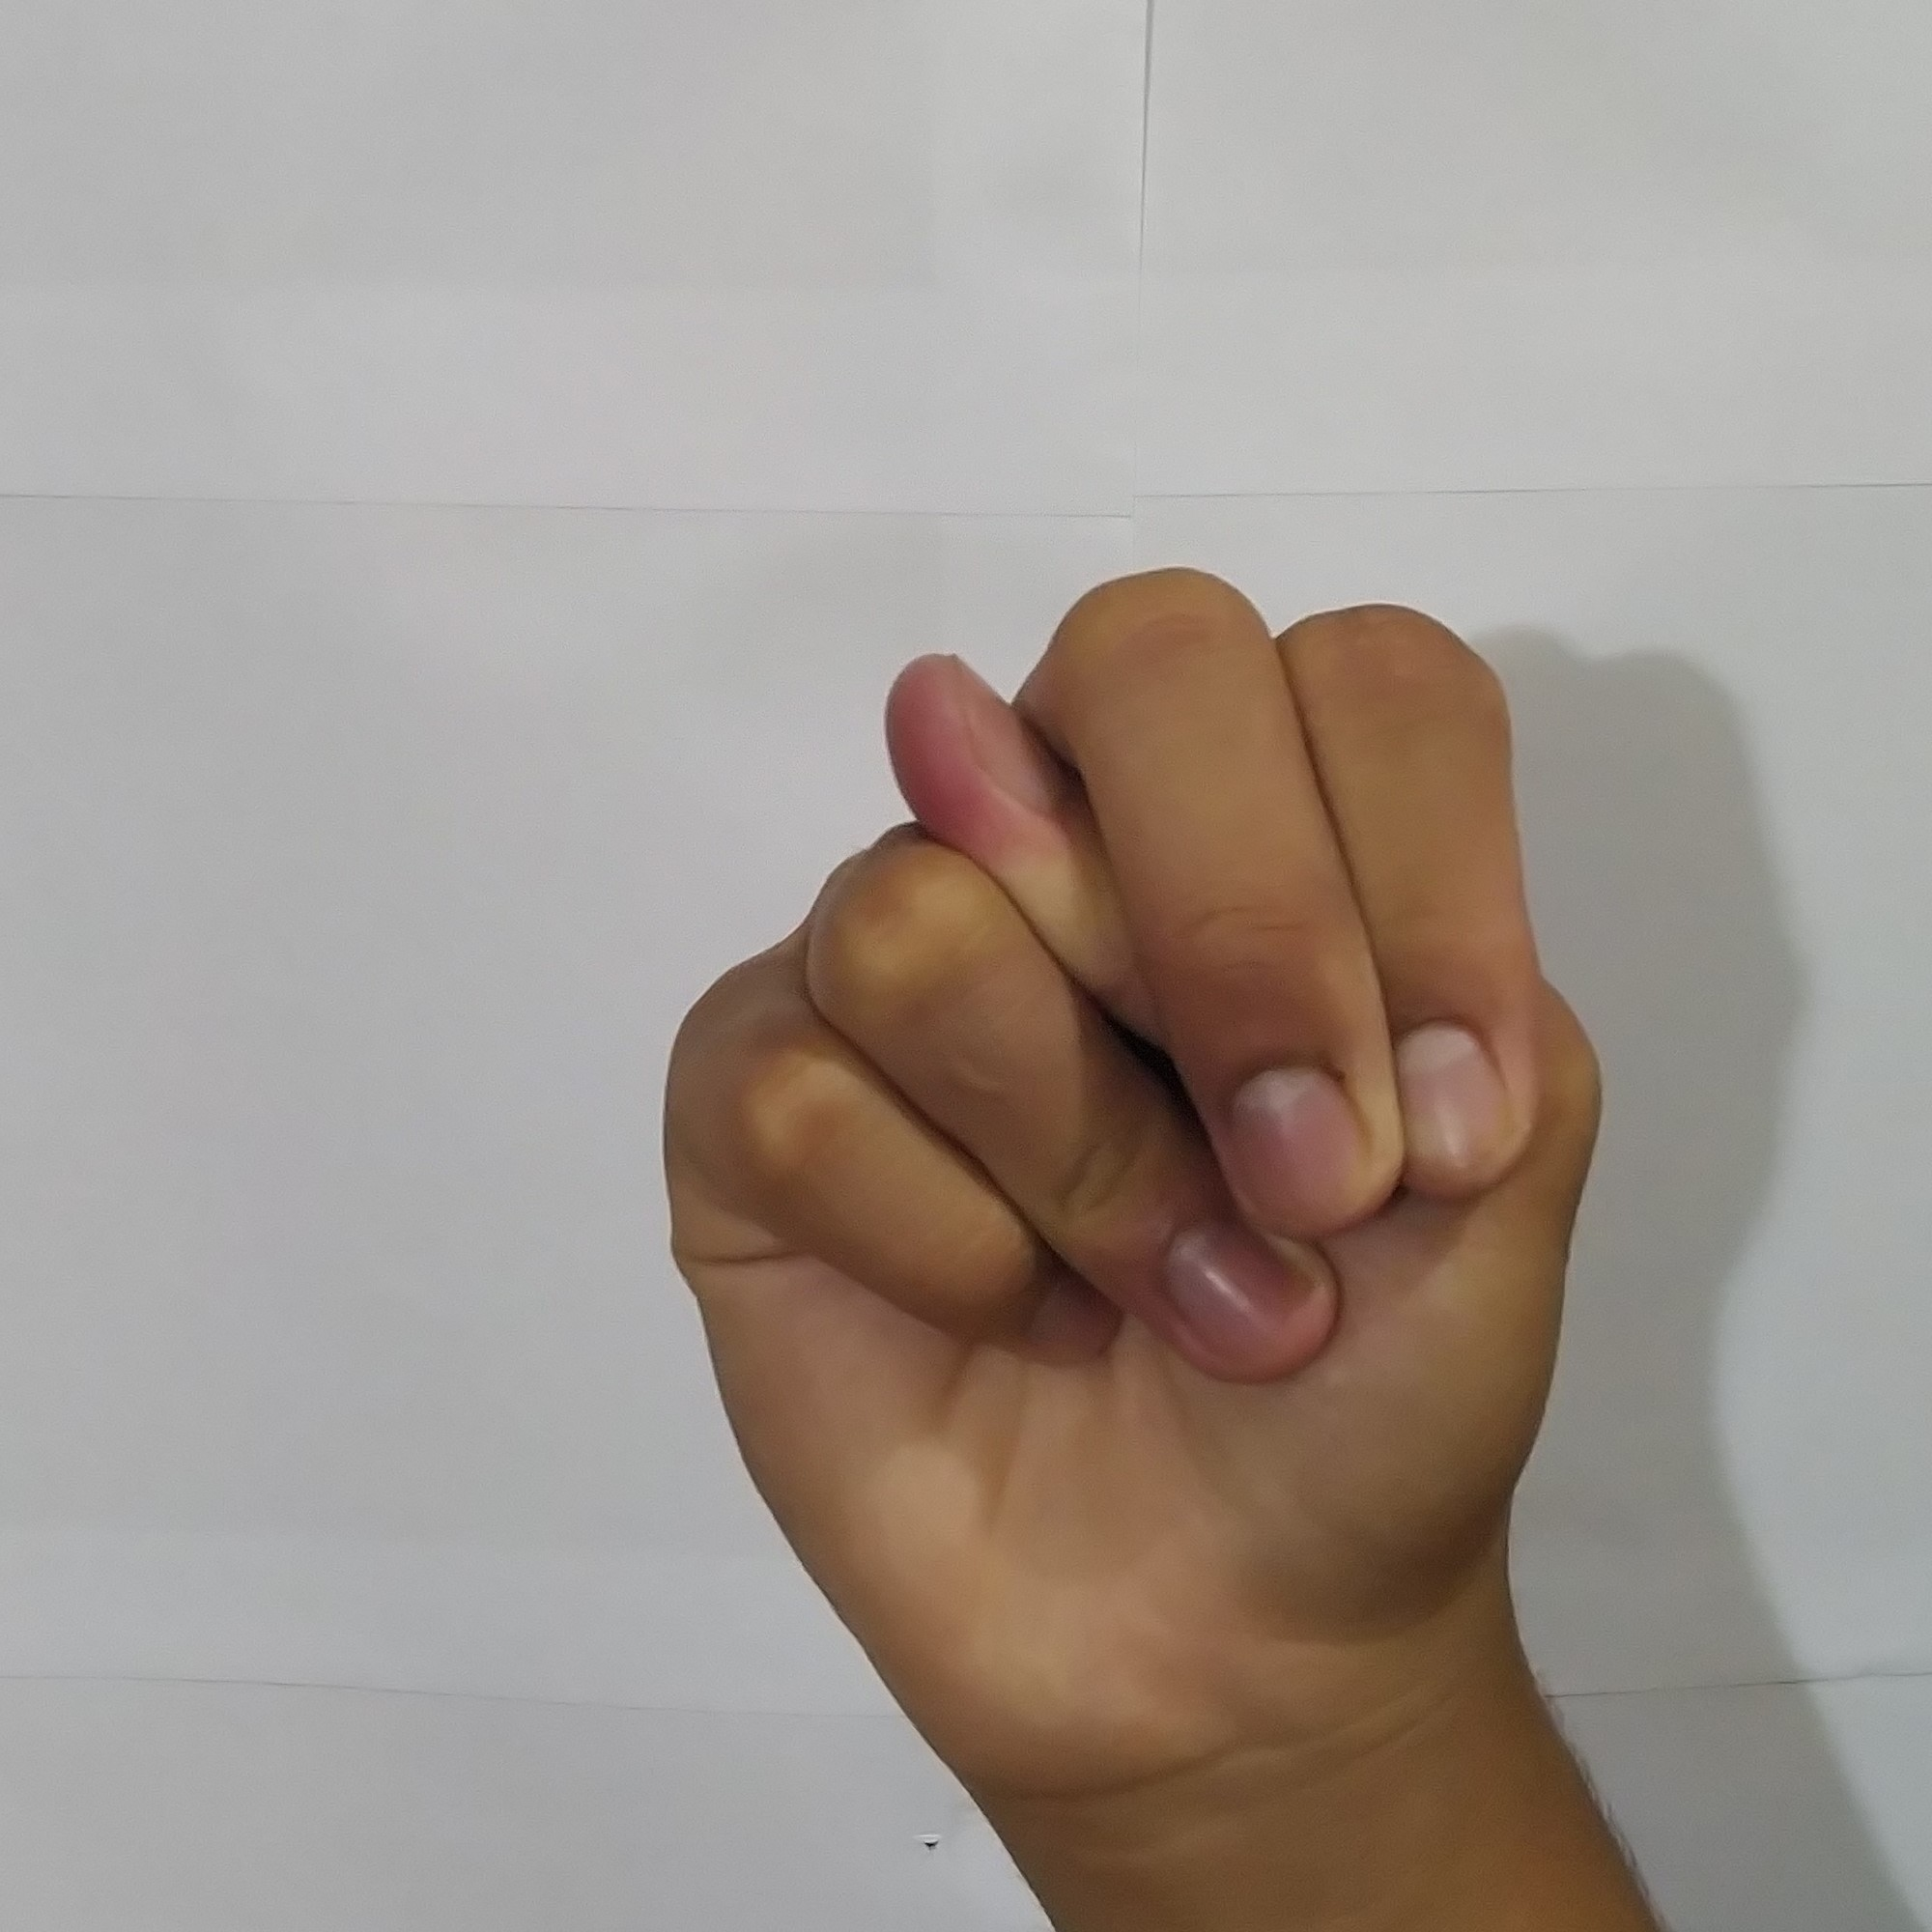N: (619, 527, 1633, 1707)
